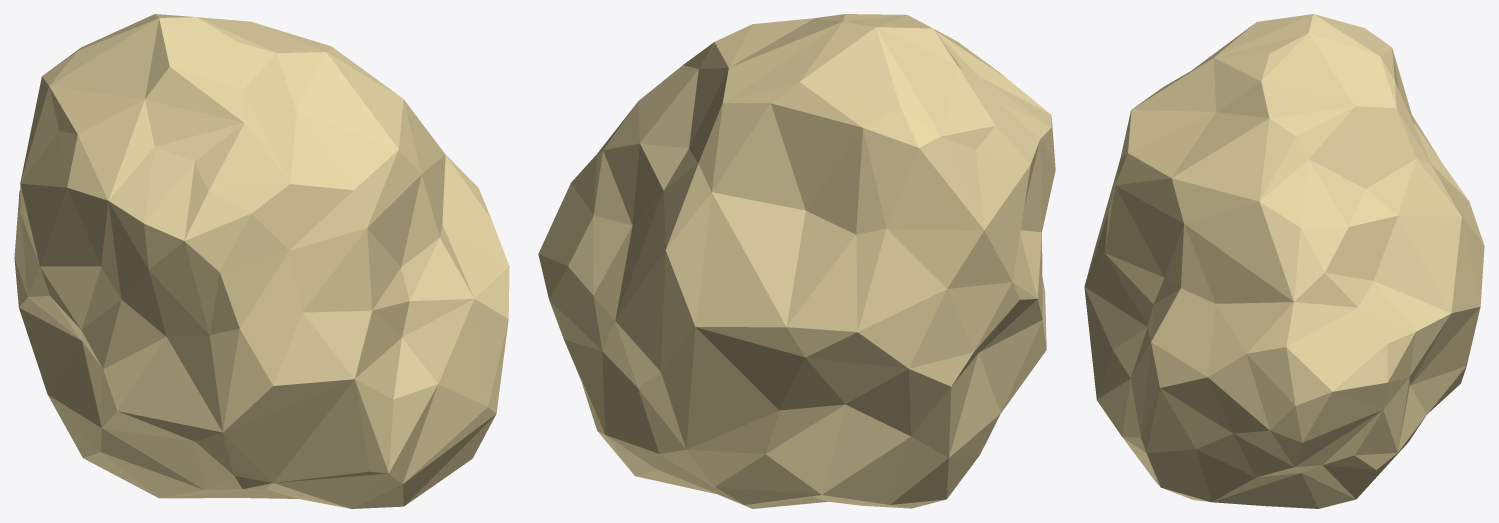
Rendered from Asteroid (122).fbx.
The picture shows the model from 3 angles, left to right: view 1: azimuth 30°, elevation 25°; view 2: azimuth 150°, elevation 25°; view 3: azimuth 270°, elevation 25°; orthographic projection. The views are drawn at different scales.
Visible parts, largest first — view 1: Asteroid140; view 2: Asteroid140; view 3: Asteroid140.
Boxes of the visible parts, box(x1,y1,x2,y2) form: Asteroid140: box(14, 14, 509, 508); Asteroid140: box(538, 14, 1055, 508); Asteroid140: box(1084, 14, 1484, 508).
Bounding box in the file's own units: 281 × 290 × 254.
